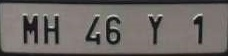character: (21, 13, 40, 45), (42, 12, 60, 44), (83, 14, 101, 45), (147, 13, 163, 45), (104, 14, 121, 44), (192, 12, 204, 44)
